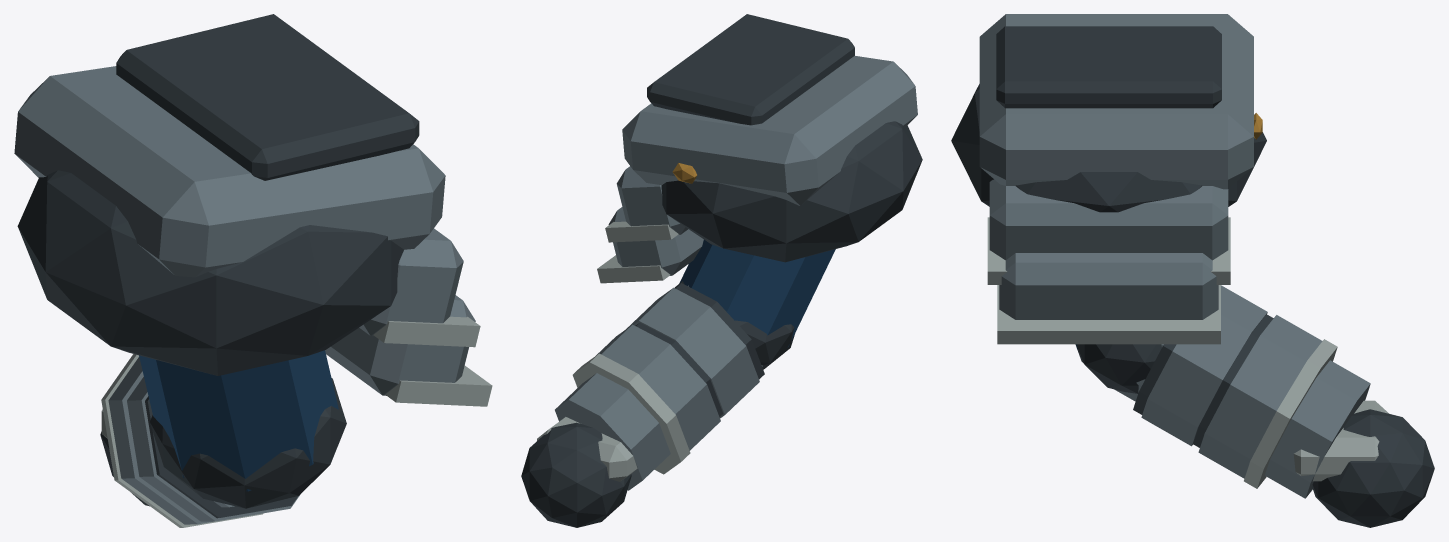
File: ArmRight.glb
3 renders of one model, left to right at view 1: azimuth 30°, elevation 25°; view 2: azimuth 150°, elevation 25°; view 3: azimuth 270°, elevation 25°, orthographic. The views are drawn at different scales.
Parts seen in each view (by area): view 1: Sculpture; view 2: Sculpture; view 3: Sculpture.
Part boxes in pixels (box(x1,y1,x2,y2)): Sculpture: box(14, 14, 492, 527); Sculpture: box(521, 14, 922, 527); Sculpture: box(951, 14, 1434, 527).
Size of the model in its own units: 0.515 by 0.748 by 0.75.
